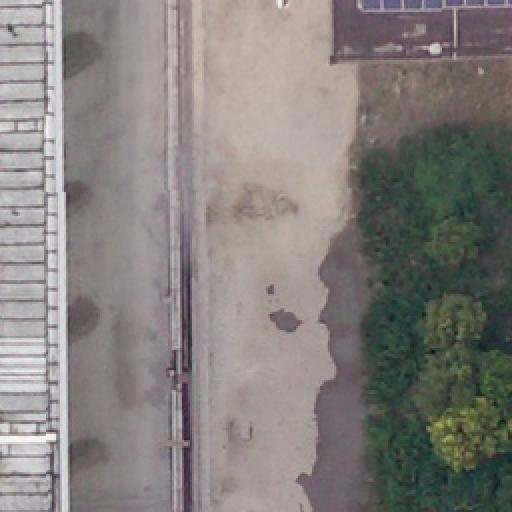solar-panel: (356, 0, 512, 12)
